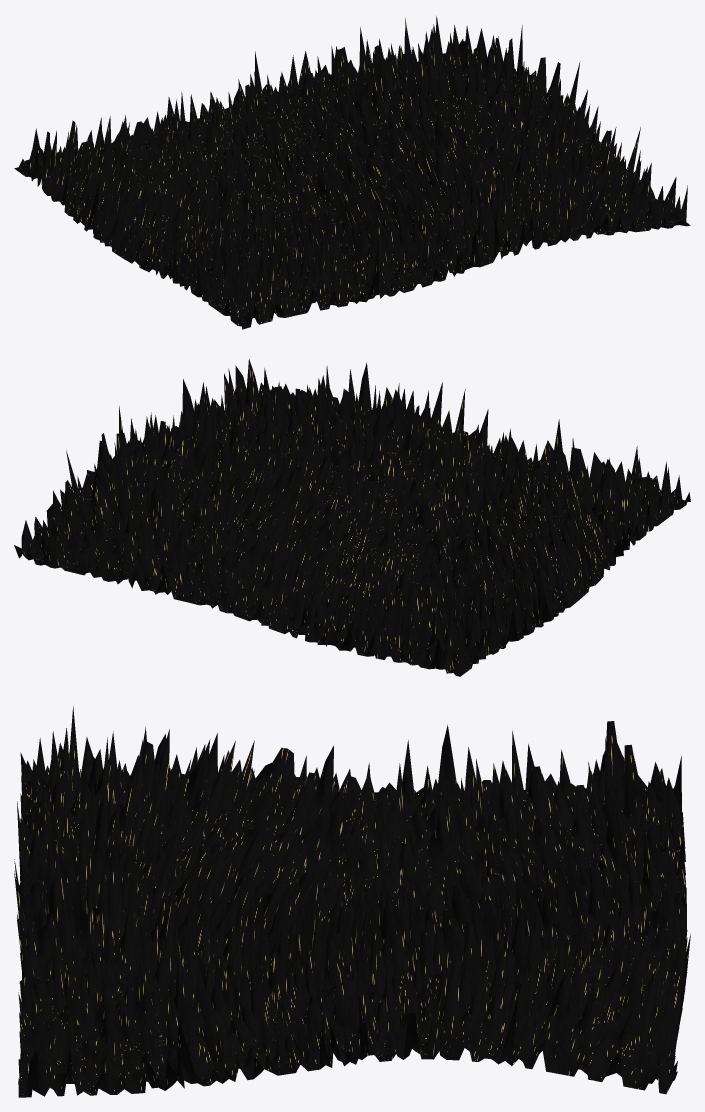
Rendered from background_strong_noise.obj.
The picture shows the model from 3 angles, top to bottom: view 1: azimuth 30°, elevation 25°; view 2: azimuth 150°, elevation 25°; view 3: azimuth 270°, elevation 25°; orthographic projection. The views are drawn at different scales.
Size of the model in its own units: 2.29 by 0.5623 by 2.04.
1 material, 1 textured.
